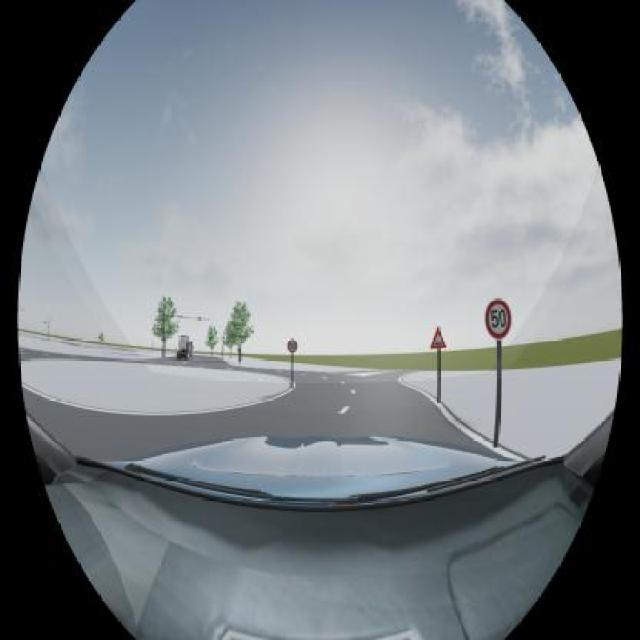Speed limit 50: (482, 296, 515, 341)
